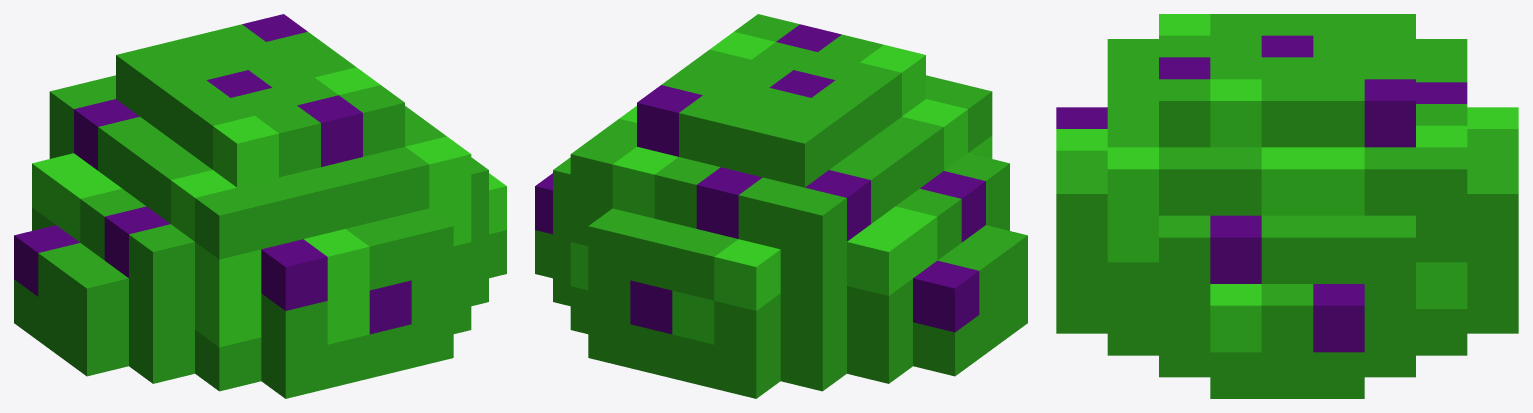
File: Arbusto.fbx
The picture shows the model from 3 angles, left to right: view 1: azimuth 30°, elevation 25°; view 2: azimuth 150°, elevation 25°; view 3: azimuth 270°, elevation 25°; orthographic projection. The views are drawn at different scales.
Parts seen in each view (by area): view 1: Mesh; view 2: Mesh; view 3: Mesh.
Boxes of the visible parts, left/top/right/bottom form: Mesh: left=14, top=14, right=506, bottom=398; Mesh: left=535, top=14, right=1027, bottom=398; Mesh: left=1056, top=14, right=1518, bottom=398.
Size of the model in its own units: 25 by 12.5 by 22.5.
1 material, 1 textured.
